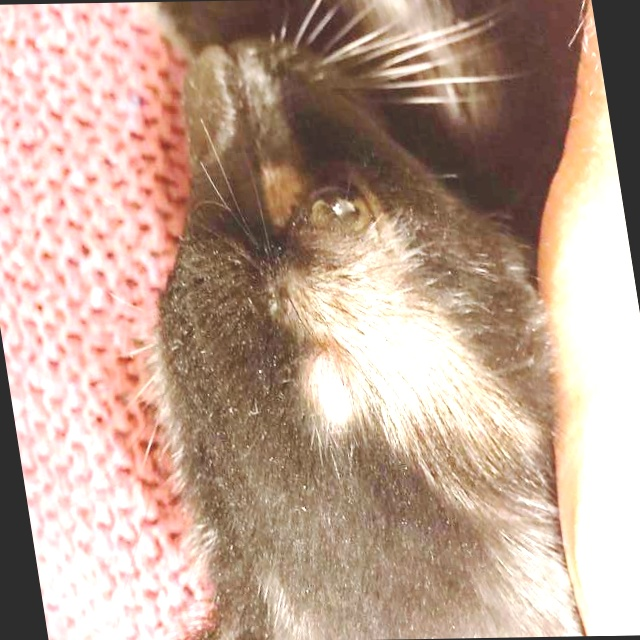lump_and_bump: (303, 358, 365, 422)
